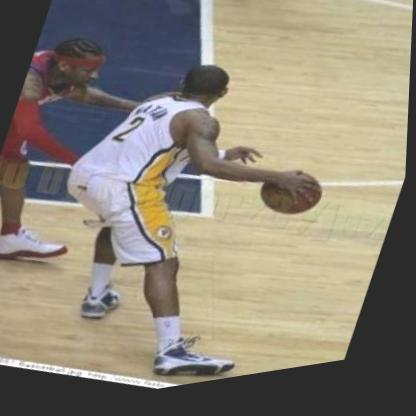basketball: (260, 169, 327, 232)
